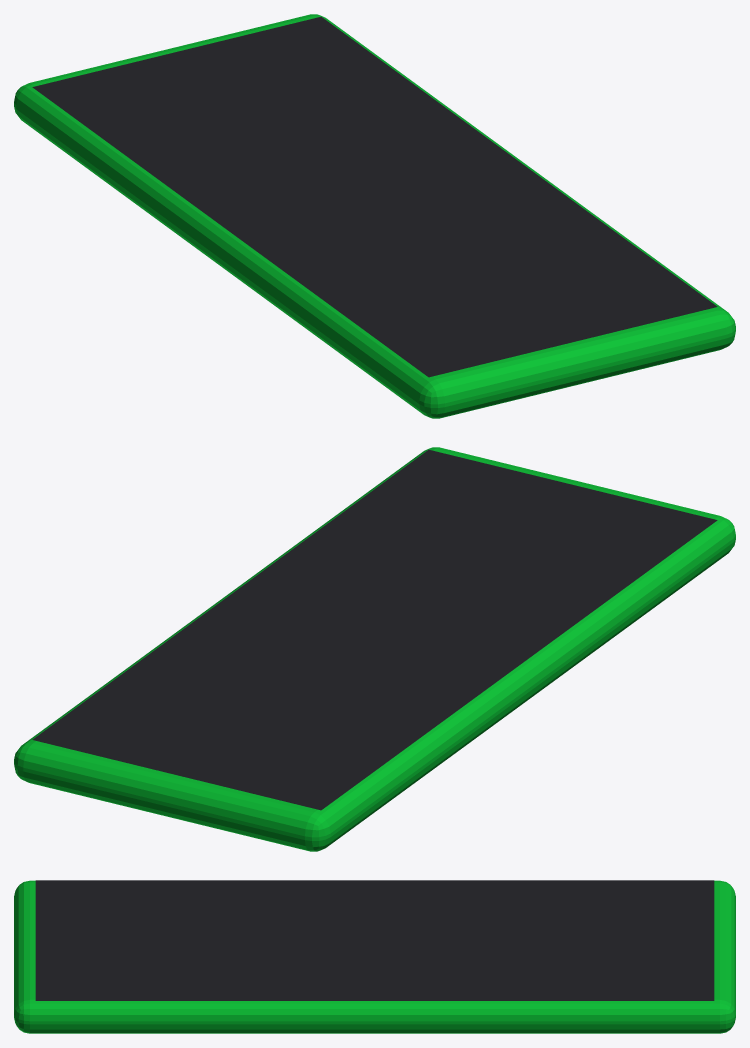
The model's file is Phone_336.glb.
3 renders of one model, top to bottom at view 1: azimuth 30°, elevation 25°; view 2: azimuth 150°, elevation 25°; view 3: azimuth 270°, elevation 25°, orthographic. The views are drawn at different scales.
Parts seen in each view (by area): view 1: Phone_Screen, Phone_Body; view 2: Phone_Screen, Phone_Body; view 3: Phone_Screen, Phone_Body.
Boxes of the visible parts, <box> form: Phone_Screen: <box>32,16,717,377</box>; Phone_Body: <box>14,14,735,418</box>; Phone_Screen: <box>32,449,717,810</box>; Phone_Body: <box>14,447,735,851</box>; Phone_Screen: <box>35,880,714,1000</box>; Phone_Body: <box>14,880,735,1033</box>.
Bounding box in the file's own units: 0.0702 × 0.0082 × 0.1632.
